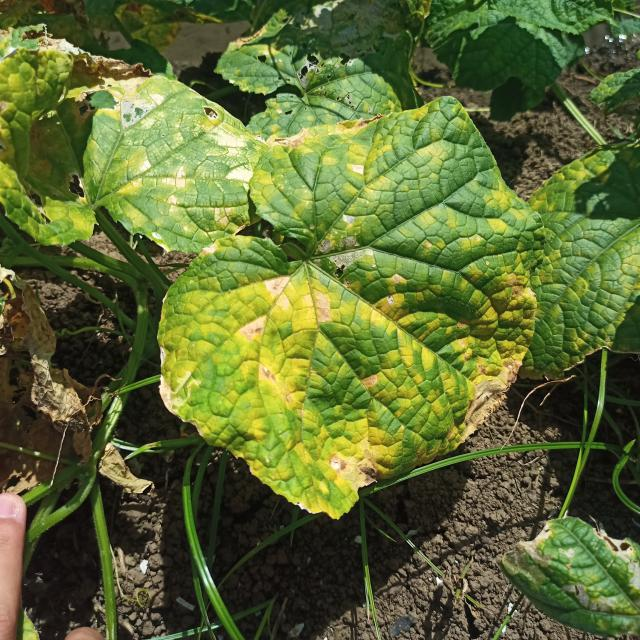disease_cucumber: (162, 100, 525, 511), (88, 79, 272, 254)
